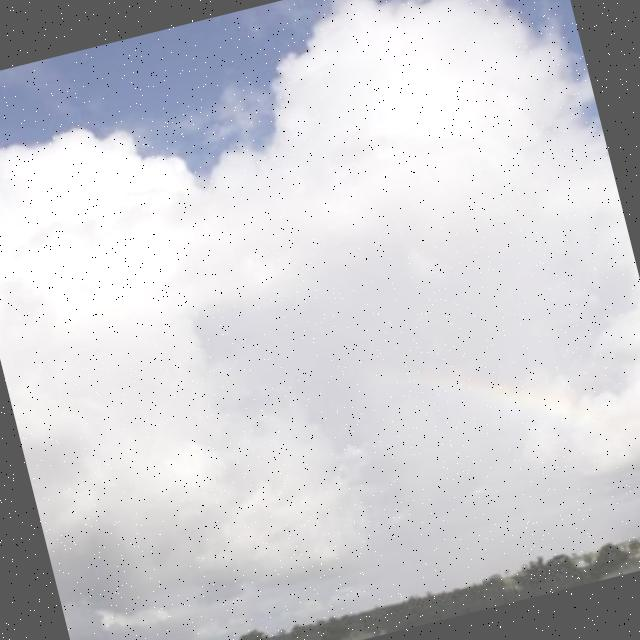Cu: (1, 1, 640, 544)
